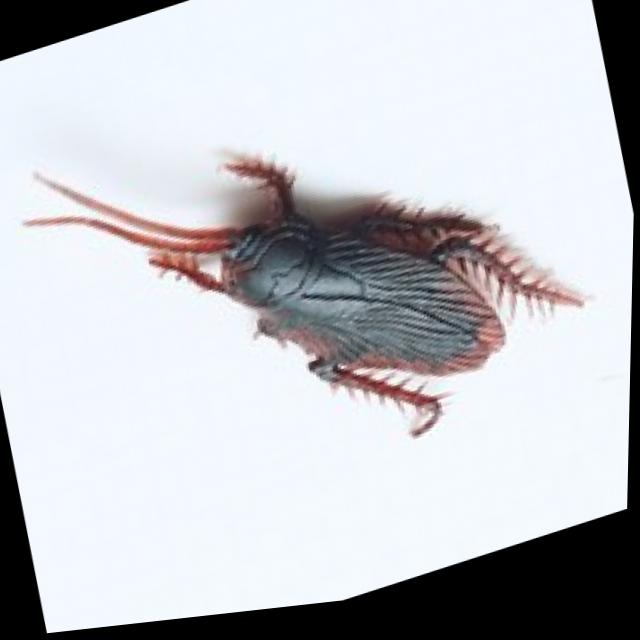Cockroach: (0, 5, 617, 564)
